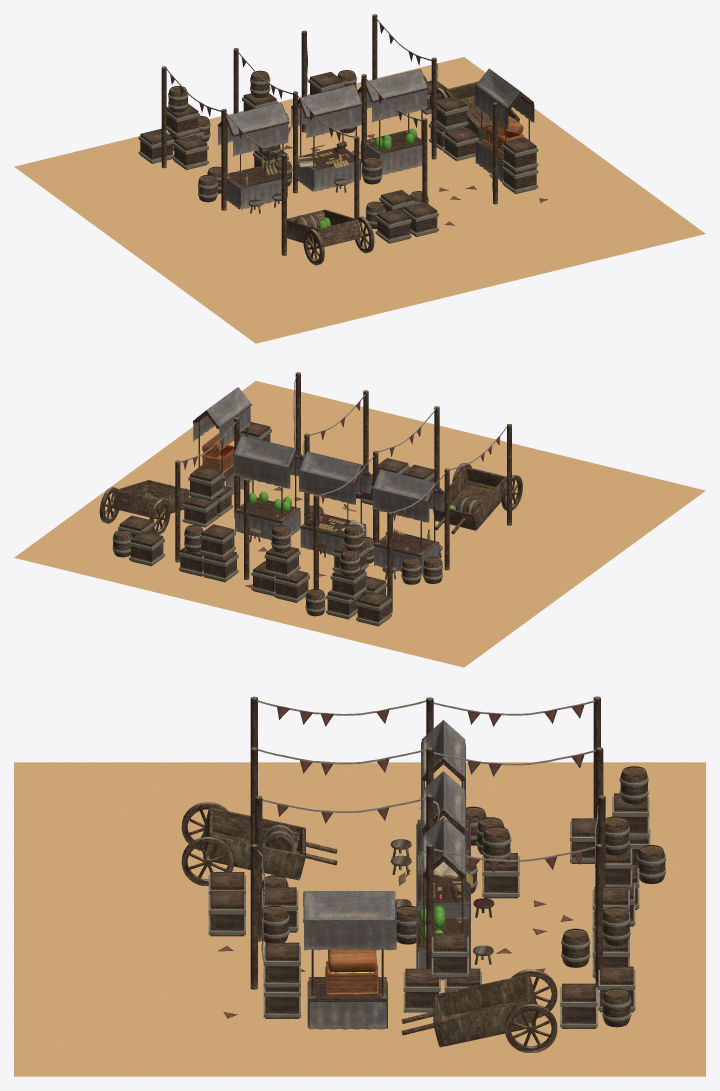
The model's file is market assets.fbx.
The picture shows the model from 3 angles, top to bottom: view 1: azimuth 30°, elevation 25°; view 2: azimuth 150°, elevation 25°; view 3: azimuth 270°, elevation 25°; orthographic projection. The views are drawn at different scales.
Parts seen in each view (by area): view 1: Plane034, Box366, Plane021, Plane077, Plane069, Plane044, Plane072, Plane080, Box258, Box381, Box384, Box372 (+21 smaller); view 2: Plane034, Box366, Box258, Plane081, Plane073, Plane045, Plane082, Plane074, Plane046, Box375, Box260, Box385 (+34 smaller); view 3: Plane034, Box258, Box366, Plane089, Plane090, Plane087, Box372, Box370, Box380, Box367, Box368, Box382 (+38 smaller).
Part boxes in pixels (<box>): Plane034: <box>14,57,705,343</box>; Box366: <box>287,209,360,246</box>; Plane021: <box>226,102,288,134</box>; Plane077: <box>366,68,427,100</box>; Plane069: <box>300,84,361,116</box>; Plane044: <box>232,121,288,156</box>; Plane072: <box>306,103,361,138</box>; Plane080: <box>371,87,427,122</box>; Box258: <box>444,81,519,140</box>; Box381: <box>375,208,411,243</box>; Box384: <box>173,135,208,169</box>; Box372: <box>502,137,538,172</box>; Plane034: <box>14,381,705,667</box>; Box366: <box>433,467,506,530</box>; Box258: <box>113,480,189,517</box>; Plane081: <box>233,454,290,488</box>; Plane073: <box>299,470,355,504</box>; Plane045: <box>372,488,429,522</box>; Plane082: <box>234,435,295,467</box>; Plane074: <box>300,451,361,483</box>; Plane046: <box>373,469,434,501</box>; Box375: <box>200,524,235,559</box>; Box260: <box>129,531,164,566</box>; Box385: <box>356,591,391,626</box>; Plane034: <box>14,762,705,1076</box>; Box258: <box>433,974,535,1047</box>; Box366: <box>203,807,305,880</box>; Plane089: <box>304,920,396,950</box>; Plane090: <box>304,891,394,919</box>; Plane087: <box>309,1002,386,1029</box>; Box372: <box>263,942,300,988</box>; Box370: <box>431,933,468,978</box>; Box380: <box>208,891,245,936</box>; Box367: <box>560,983,597,1028</box>; Box368: <box>403,968,440,1012</box>; Box382: <box>482,853,519,898</box>.
Bounding box in the file's own units: 1055 × 227 × 982.
